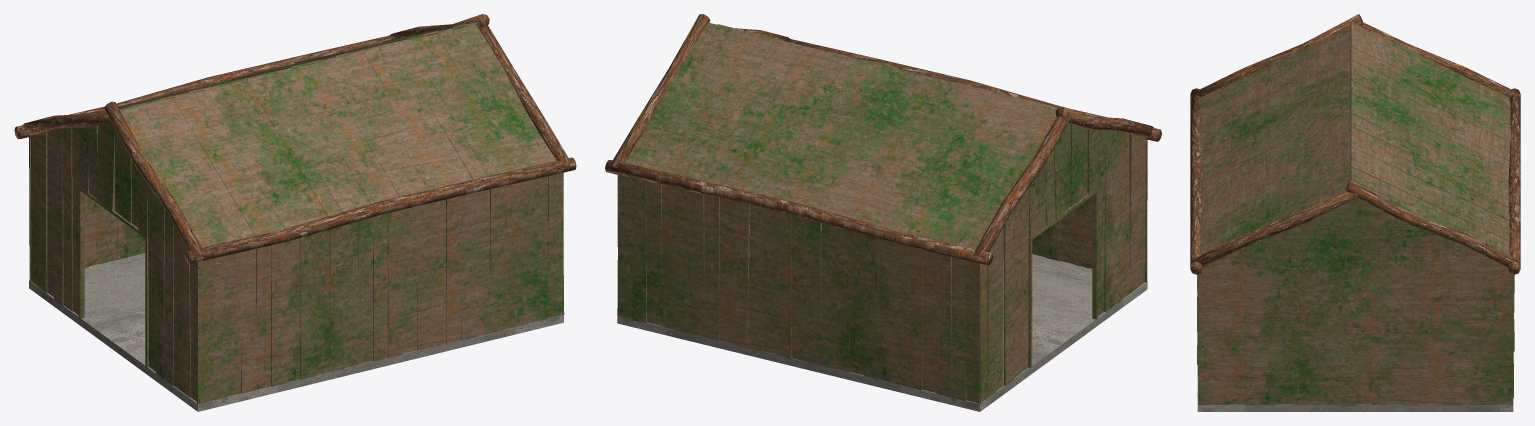
The model's file is bul3.glb.
3 renders of one model, left to right at view 1: azimuth 30°, elevation 25°; view 2: azimuth 150°, elevation 25°; view 3: azimuth 270°, elevation 25°, orthographic. The views are drawn at different scales.
Visible parts, largest first — view 1: Barn; view 2: Barn; view 3: Barn.
Part boxes in pixels (x1,y1,x2,y2): Barn: (14, 14, 576, 411); Barn: (605, 14, 1161, 411); Barn: (1190, 14, 1520, 411).
Bounding box in the file's own units: 5.26 × 3.24 × 4.19.
Materials: 3 (3 with a texture image).
